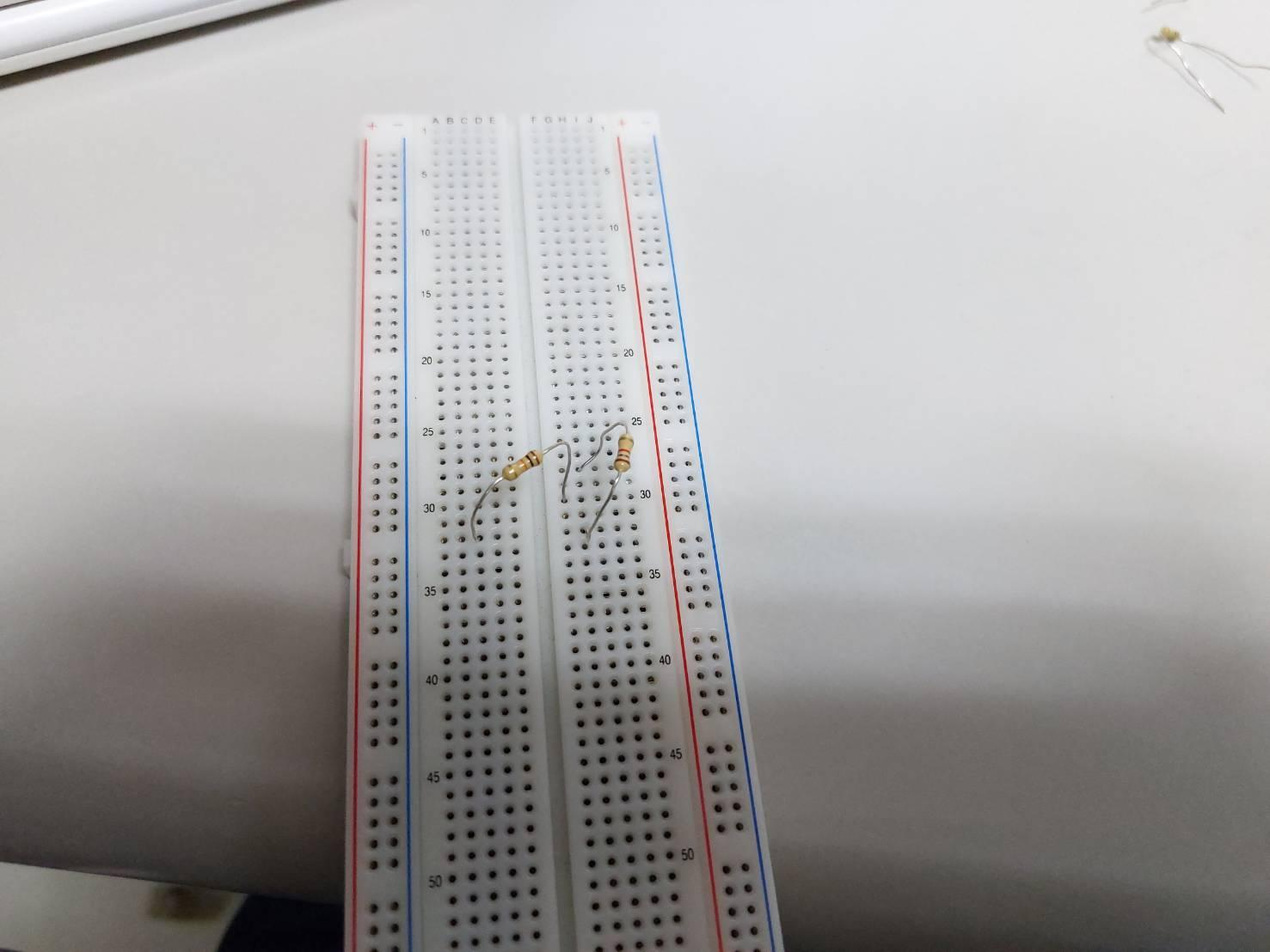resistor: (503, 449, 543, 481), (613, 434, 633, 474)
